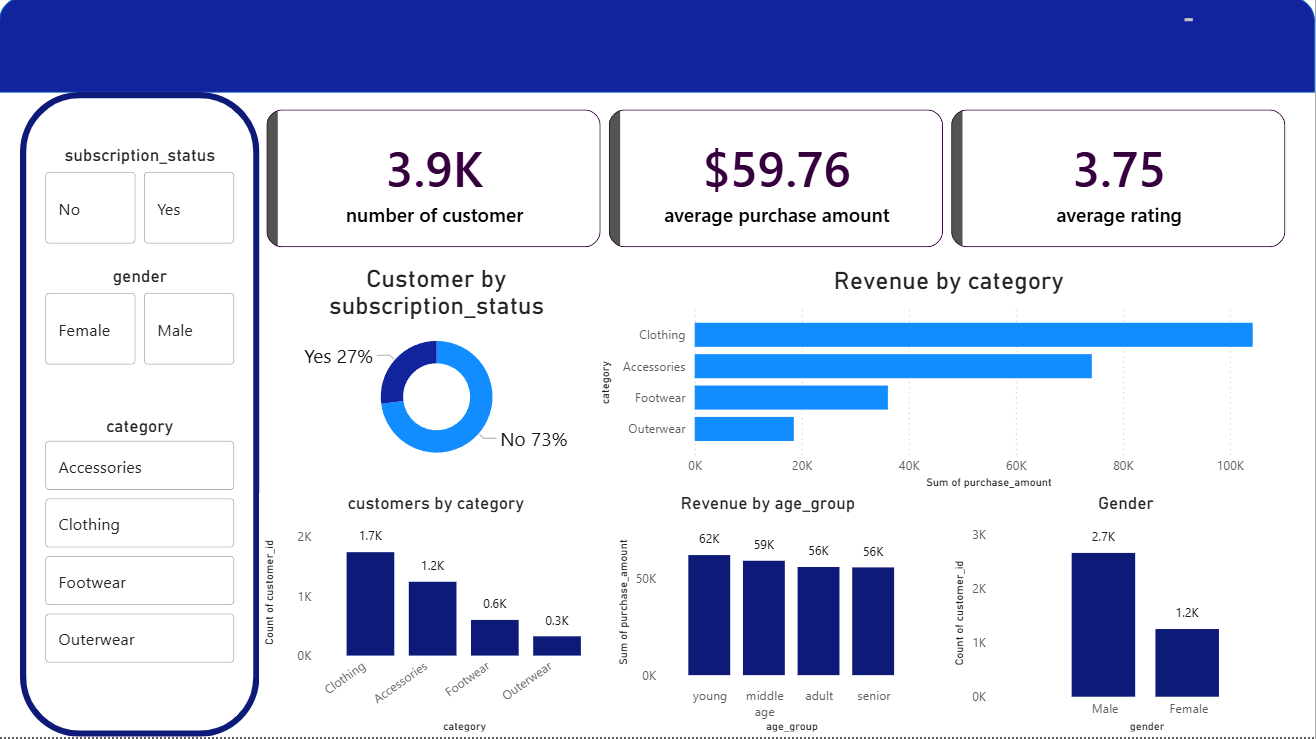

The page's visual inventory and layout, read from the dashboard file:
{"tool":"powerbi","page":{"name":"Page 1","canvas":[1280,720],"ordinal":0},"visuals":[{"type":"cardVisual","fields":{"Data":["customer_behaviour customer_data.number of customer","customer_behaviour customer_data.average purchase amount","customer_behaviour customer_data.average rating"]},"box":[242.9,92.9,1025.7,168.6],"z":0},{"type":"shape","box":[0,0,1280,93.1],"z":1000},{"type":"textbox","box":[208.3,15.1,957.7,12.8],"z":2000},{"type":"shape","box":[20,92.9,232.9,627.1],"z":2001},{"type":"advancedSlicerVisual","fields":{"Values":["customer_behaviour customer_data.subscription_status"]},"box":[40,144.3,194.3,101.4],"z":2002},{"type":"advancedSlicerVisual","fields":{"Values":["customer_behaviour customer_data.gender"]},"box":[40,261.4,194.3,101.4],"z":2003},{"type":"advancedSlicerVisual","fields":{"Values":["customer_behaviour customer_data.category"]},"box":[40,407.1,194.3,245.7],"z":2004},{"type":"donutChart","title":"Customer by subscription_status","fields":{"Category":["customer_behaviour customer_data.subscription_status"],"Y":["CountNonNull(customer_behaviour customer_data.customer_id)"]},"box":[271.4,260,308.6,204.3],"z":2006},{"type":"clusteredColumnChart","title":"customers by category","fields":{"Category":["customer_behaviour customer_data.category"],"Y":["CountNonNull(customer_behaviour customer_data.customer_id)"]},"box":[252.9,482.9,344.3,237.1],"z":2010},{"type":"clusteredColumnChart","title":"Revenue by age_group","fields":{"Y":["Sum(customer_behaviour customer_data.purchase_amount)"],"Category":["customer_behaviour customer_data.age_group"]},"box":[597.1,482.9,301.4,237.1],"z":2011},{"type":"clusteredBarChart","title":"Revenue by category","fields":{"Category":["customer_behaviour customer_data.category"],"Y":["Sum(customer_behaviour customer_data.purchase_amount)"]},"box":[580,261.4,688.6,221.4],"z":2012},{"type":"clusteredColumnChart","title":"Gender","fields":{"Category":["customer_behaviour customer_data.gender"],"Y":["CountNonNull(customer_behaviour customer_data.customer_id)"]},"box":[924.3,482.9,344.3,237.1],"z":2013}]}

Visuals, with their boxes in screenshot pixels (x1, y1, x2, y2), scaled from the page's 1280x720 canvas onto the 1316x739 screenshot:
cardVisual - customer_behaviour customer_data.number of customer x customer_behaviour customer_data.average purchase amount: (250, 95, 1304, 268)
shape: (0, 0, 1315, 96)
textbox: (214, 15, 1199, 29)
shape: (21, 95, 260, 738)
advancedSlicerVisual - customer_behaviour customer_data.subscription_status: (41, 148, 241, 252)
advancedSlicerVisual - customer_behaviour customer_data.gender: (41, 268, 241, 372)
advancedSlicerVisual - customer_behaviour customer_data.category: (41, 418, 241, 670)
"Customer by subscription_status" donutChart: (279, 267, 596, 477)
"customers by category" clusteredColumnChart: (260, 496, 614, 738)
"Revenue by age_group" clusteredColumnChart: (614, 496, 924, 738)
"Revenue by category" clusteredBarChart: (596, 268, 1304, 496)
"Gender" clusteredColumnChart: (950, 496, 1304, 738)
